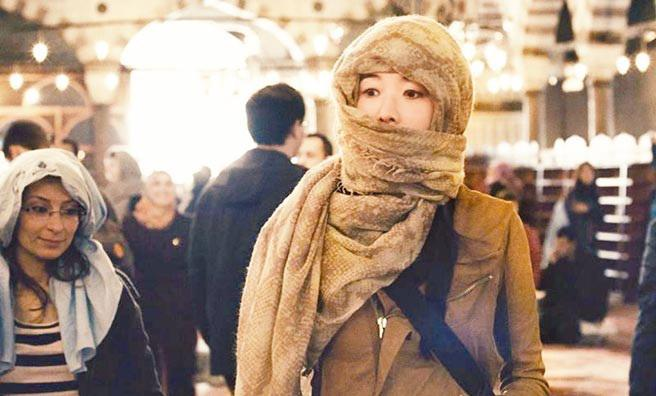NONE: (22, 195, 79, 257), (297, 145, 328, 178), (150, 178, 174, 206)
WRONG: (348, 69, 447, 170)
